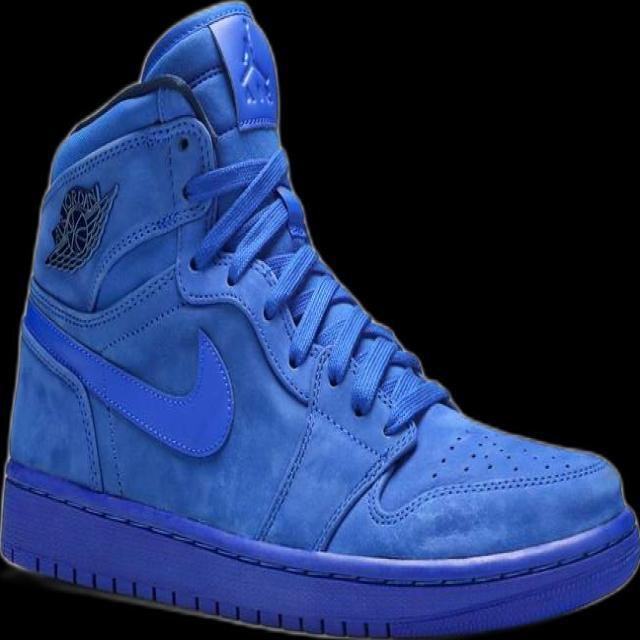J1_InsoleChar: (0, 0, 639, 639)
J1_ShoeLogo: (43, 179, 119, 274)
J1_StitchPattern: (37, 82, 442, 447), (1, 461, 638, 591), (184, 151, 437, 432), (4, 545, 394, 639), (259, 243, 442, 432), (367, 426, 608, 529), (223, 193, 351, 363), (252, 342, 332, 544), (261, 244, 357, 364), (225, 193, 295, 283), (232, 16, 279, 130)
